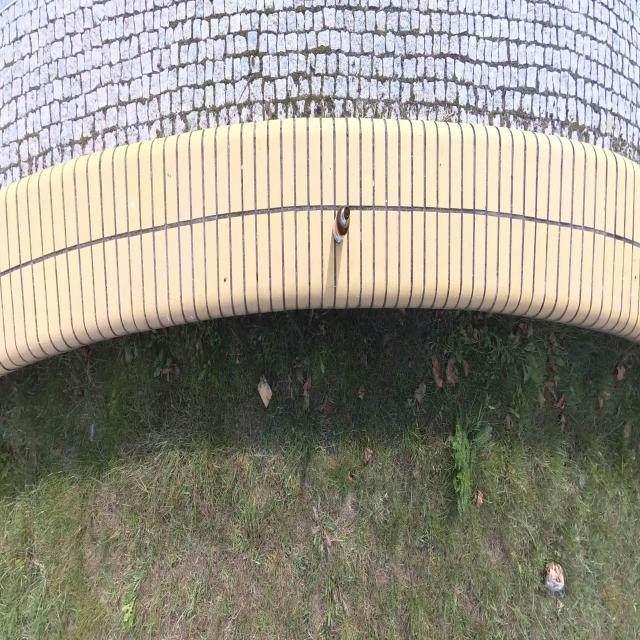rubbish: (332, 204, 349, 244), (545, 562, 566, 589)
